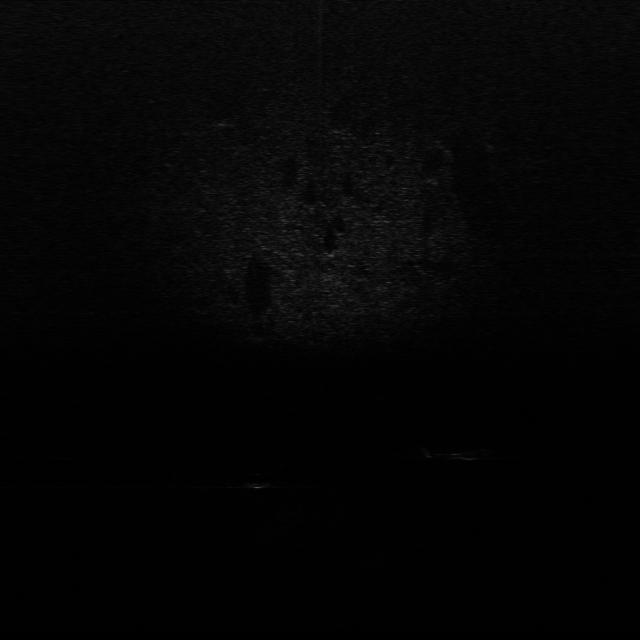ball: (237, 468, 276, 491)
human body: (414, 441, 502, 465)
